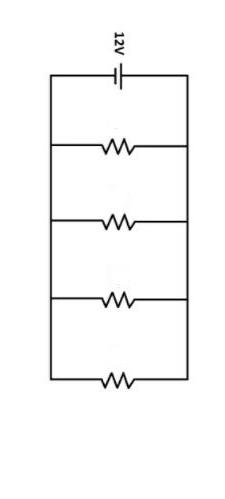resistor: (84, 122, 155, 168), (86, 360, 159, 395), (91, 195, 152, 234), (94, 282, 140, 321)
